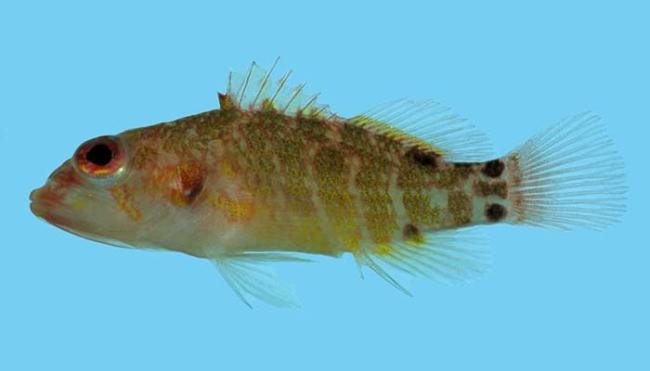fish: (27, 56, 628, 311)
